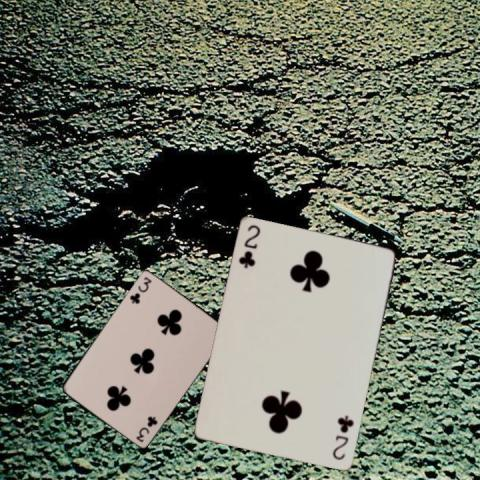2c: (330, 413, 356, 462), (236, 222, 262, 270)
3c: (126, 274, 153, 306), (133, 413, 159, 443)
